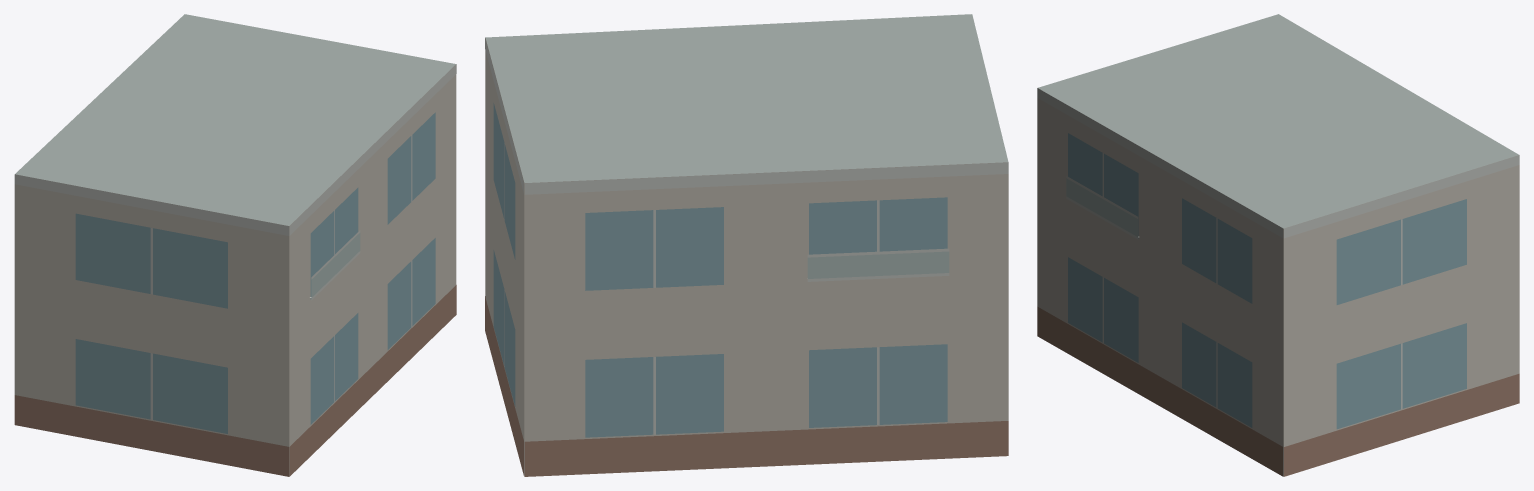
The model's file is survey-upis-32722671.glb.
3 views of the same model, side by side, from view 1: azimuth 30°, elevation 25°; view 2: azimuth 150°, elevation 25°; view 3: azimuth 270°, elevation 25° (orthographic). The views are drawn at different scales.
Visible parts, largest first — view 1: survey-upis-32722671.tmp; view 2: survey-upis-32722671.tmp; view 3: survey-upis-32722671.tmp.
Part boxes in pixels (<box>): survey-upis-32722671.tmp: <box>14,14,456,476</box>; survey-upis-32722671.tmp: <box>485,14,1008,476</box>; survey-upis-32722671.tmp: <box>1037,14,1519,476</box>.
Size of the model in its own units: 11.32 by 6.1 by 10.74.
